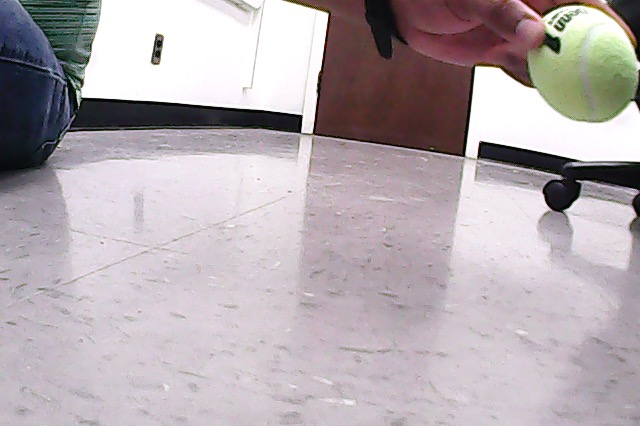ball: (528, 6, 638, 124)
